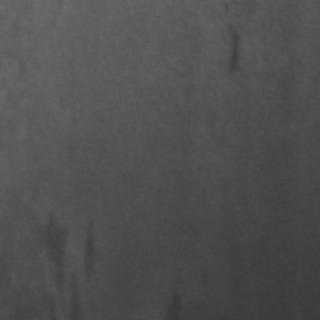inclusion: (32, 206, 100, 314), (216, 16, 246, 84)
